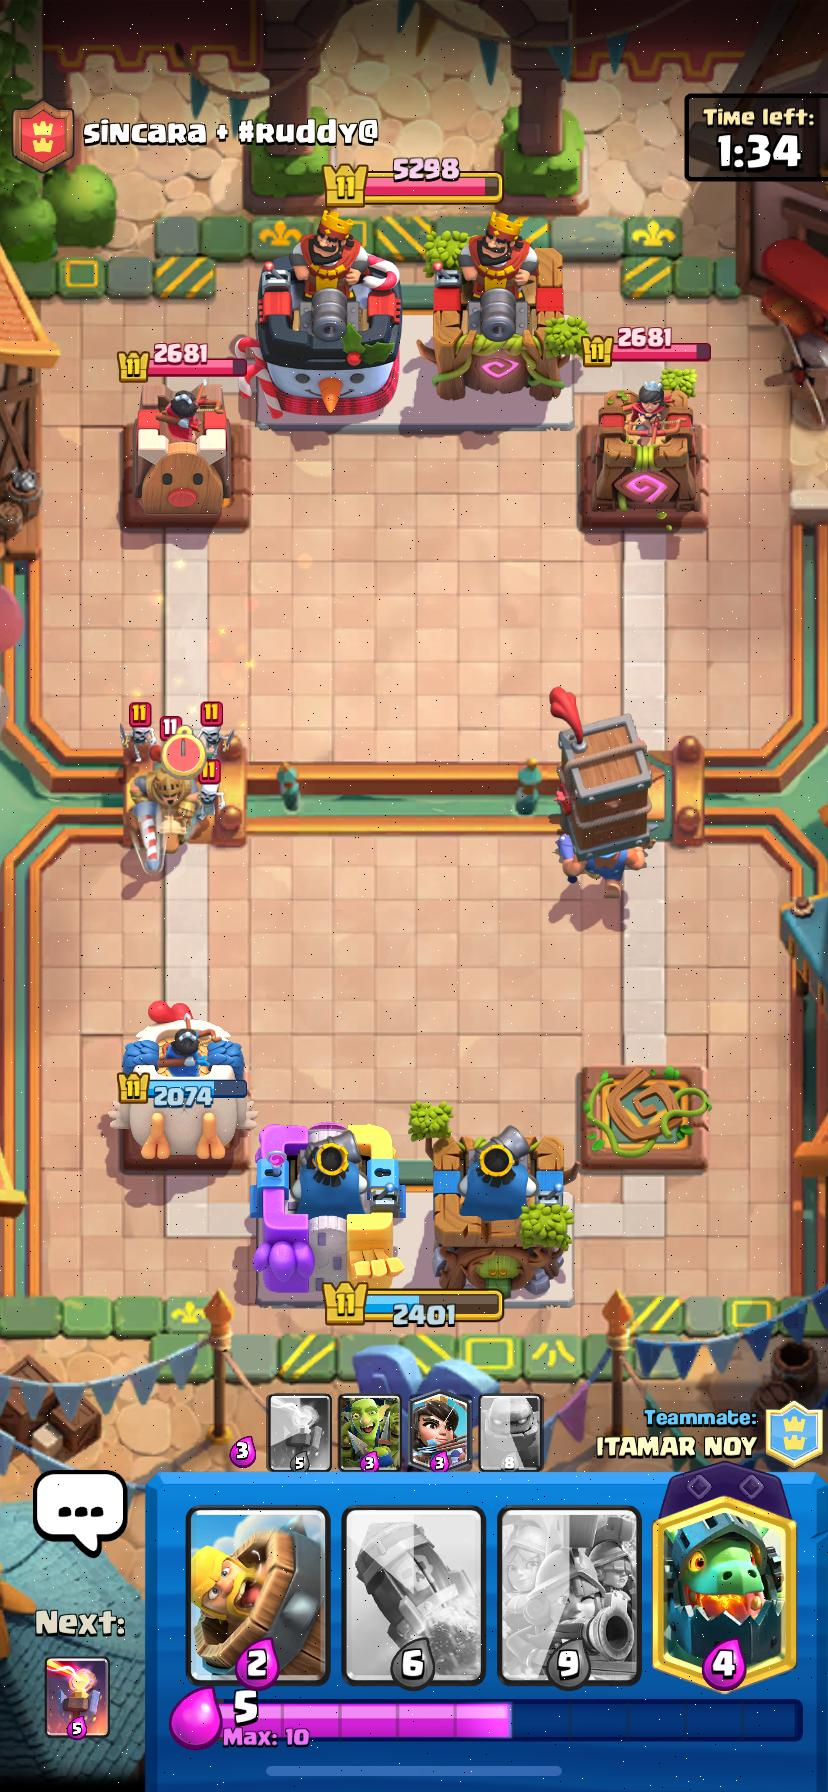EKingTower: (253, 210, 401, 425), (419, 213, 578, 400)
ELarry: (121, 699, 160, 763), (200, 699, 234, 760), (197, 755, 224, 822)
EPrince: (130, 745, 199, 872)
ERoyalR: (551, 689, 651, 861)
EnemyPrincessTower: (580, 385, 706, 529), (124, 382, 233, 525)
OFisherman: (559, 837, 645, 896)
OwnKingTower: (250, 1123, 405, 1301), (433, 1126, 572, 1293)
OwnPrincessTower: (109, 1001, 255, 1161)
TowerDown: (580, 1065, 709, 1169)
